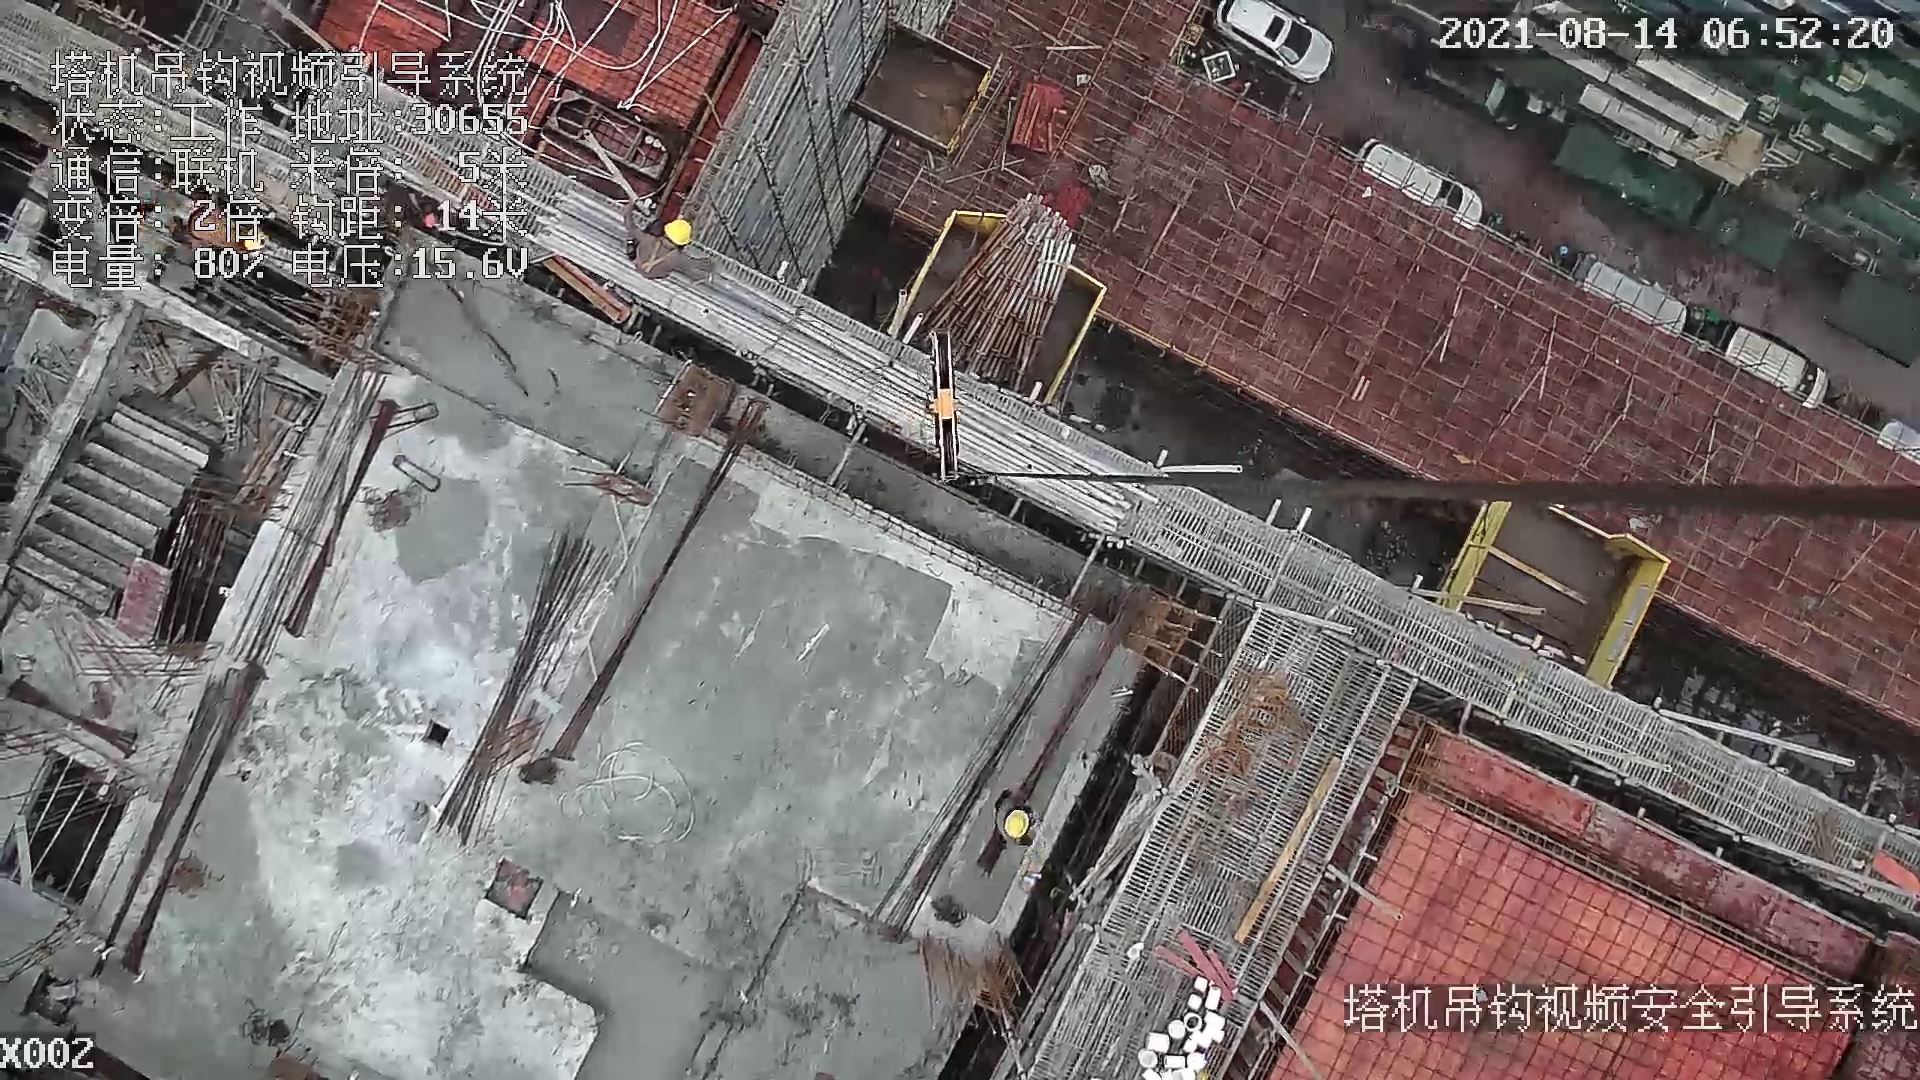helmet: (1003, 809, 1028, 839)
hook: (920, 331, 978, 480)
person: (615, 192, 731, 286), (997, 789, 1045, 847)
rebar: (532, 191, 1158, 537), (435, 535, 611, 839)
scaffold: (921, 192, 1071, 388)
